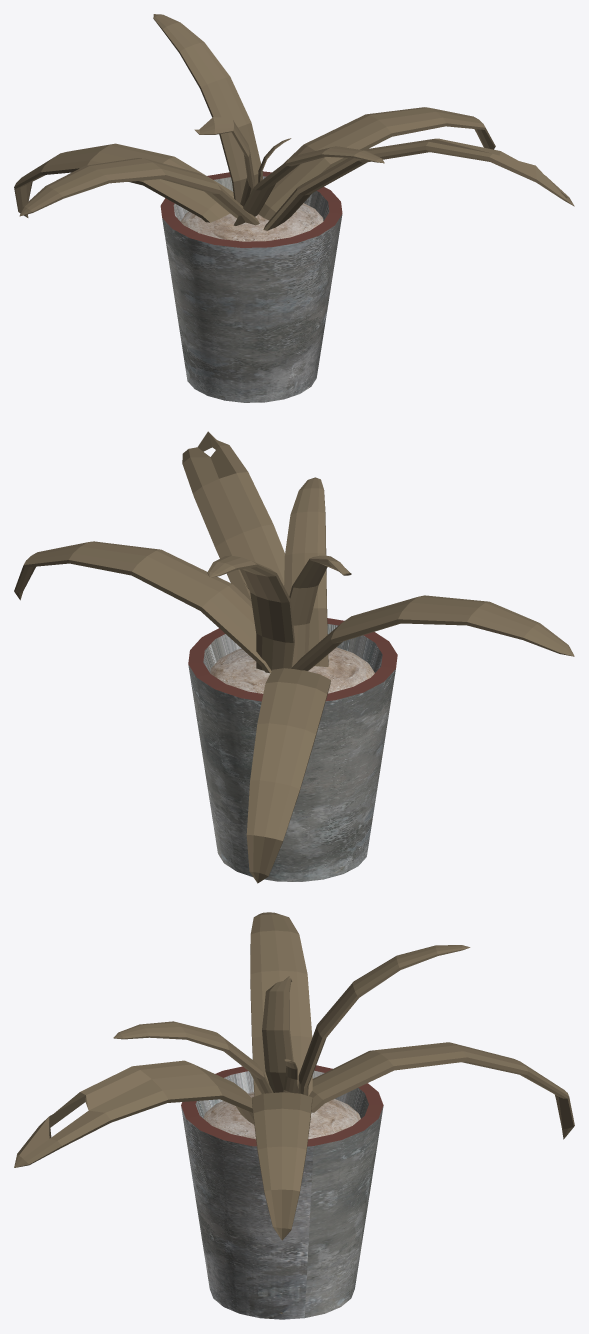
File: Plant_Textured.fbx
The picture shows the model from 3 angles, top to bottom: view 1: azimuth 30°, elevation 25°; view 2: azimuth 150°, elevation 25°; view 3: azimuth 270°, elevation 25°; orthographic projection. The views are drawn at different scales.
Parts seen in each view (by area): view 1: pCylinder1, pSphere2, pSphere4, pSphere9, pSphere3, pSphere6, pSphere1, pSphere5, pSphere7; view 2: pCylinder1, pSphere9, pSphere2, pSphere6, pSphere3, pSphere4, pSphere5, pSphere1, pSphere7; view 3: pCylinder1, pSphere6, pSphere3, pSphere2, pSphere9, pSphere4, pSphere7, pSphere1, pSphere5.
Boxes of the visible parts, x1,y1,x2,y2 form: pCylinder1: [160, 171, 342, 402]; pSphere2: [258, 107, 495, 220]; pSphere4: [153, 14, 262, 203]; pSphere9: [14, 143, 233, 222]; pSphere3: [19, 158, 259, 225]; pSphere6: [263, 138, 574, 230]; pSphere1: [180, 203, 323, 241]; pSphere5: [233, 146, 384, 225]; pSphere7: [194, 117, 254, 206]; pCylinder1: [188, 618, 397, 881]; pSphere9: [246, 668, 330, 883]; pSphere2: [14, 541, 271, 673]; pSphere6: [182, 431, 284, 601]; pSphere3: [291, 595, 574, 670]; pSphere4: [207, 555, 294, 670]; pSphere5: [284, 477, 328, 666]; pSphere1: [210, 647, 374, 693]; pSphere7: [289, 555, 351, 666]; pCylinder1: [181, 1065, 383, 1319]; pSphere6: [14, 1060, 254, 1167]; pSphere3: [250, 912, 312, 1096]; pSphere2: [252, 1092, 312, 1240]; pSphere9: [309, 1042, 574, 1139]; pSphere4: [298, 945, 470, 1095]; pSphere7: [262, 976, 298, 1093]; pSphere1: [203, 1092, 360, 1139]; pSphere5: [113, 1021, 273, 1093].
Size of the model in its own units: 2.35 by 1.42 by 2.15.
Materials: 4 (2 with a texture image).
